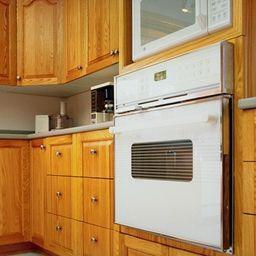Electrodomestico: (116, 77, 232, 251)
